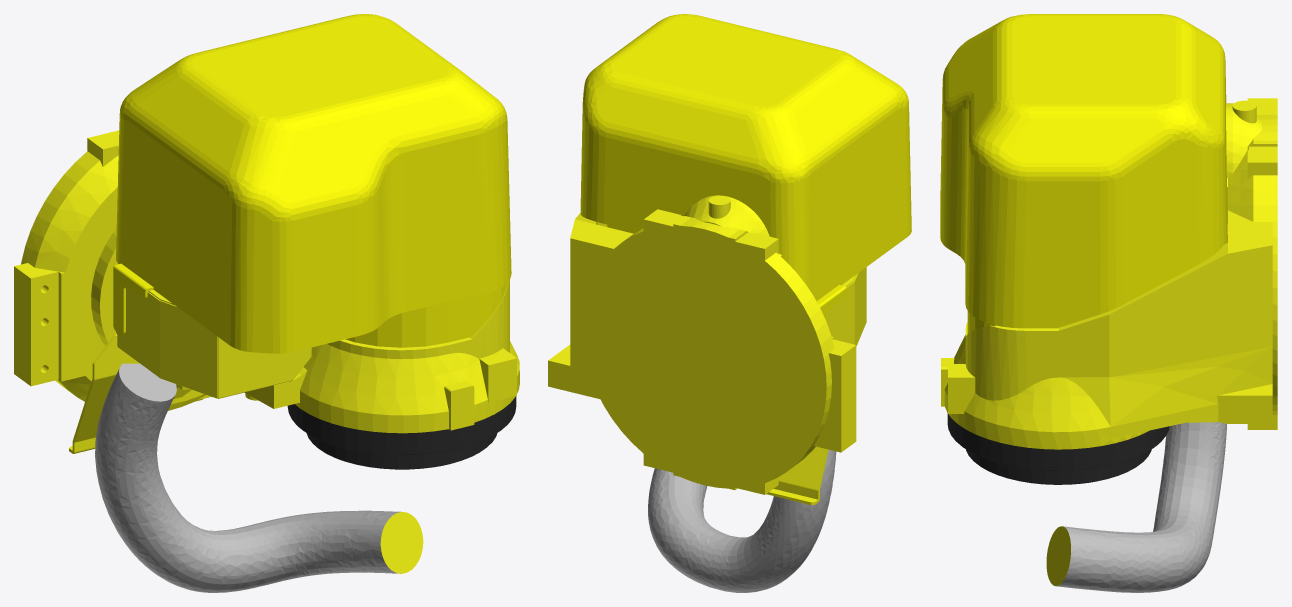
3 renders of one model, left to right at view 1: azimuth 30°, elevation 25°; view 2: azimuth 150°, elevation 25°; view 3: azimuth 270°, elevation 25°, orthographic. The views are drawn at different scales.
Parts seen in each view (by area): view 1: node; view 2: node; view 3: node.
Boxes of the visible parts, x1=… form: node: x1=14, y1=14, x2=519, y2=592; node: x1=548, y1=14, x2=911, y2=592; node: x1=940, y1=14, x2=1277, y2=592.
Bounding box in the file's own units: 428 × 580 × 335.
